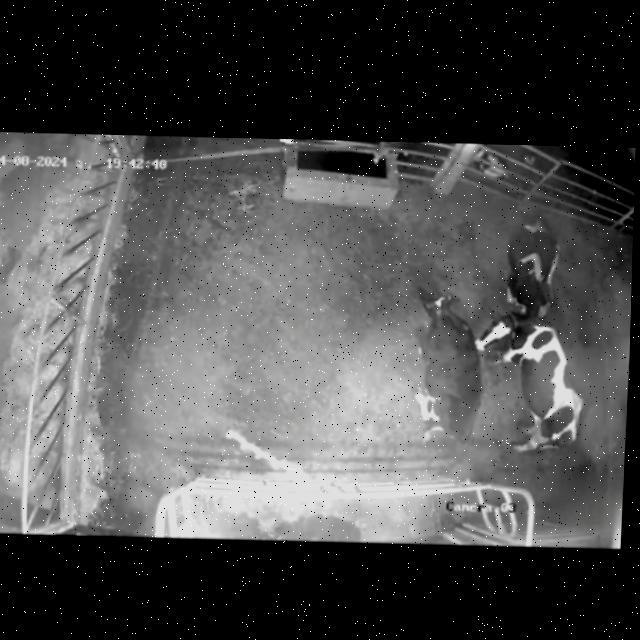lay: (372, 276, 492, 473), (478, 307, 598, 461), (492, 208, 582, 314)
